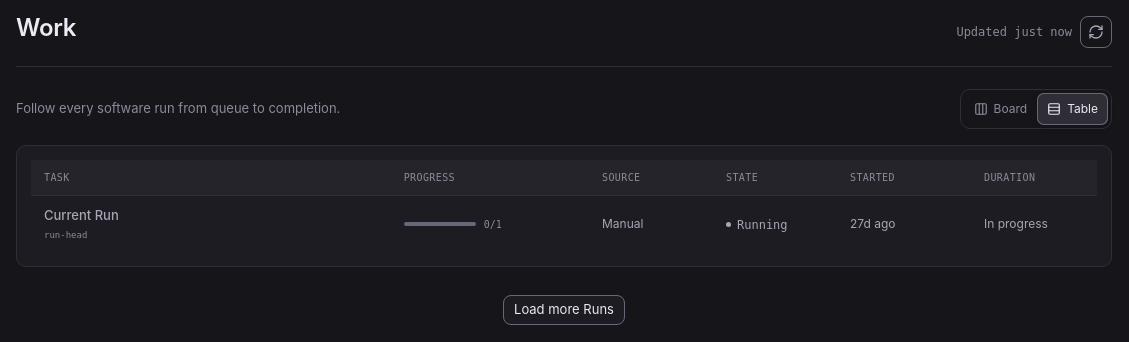
Test: Runs › loads Run history one cursor-bounded page at a time
This screenshot has width=1129, height=342.
Expected: the text "Current Run" is shown, [44,207,119,223]
Expected: the text "Older Run" is not shown
Click the button "Load more Runs": (564, 310) [503,295,625,325]
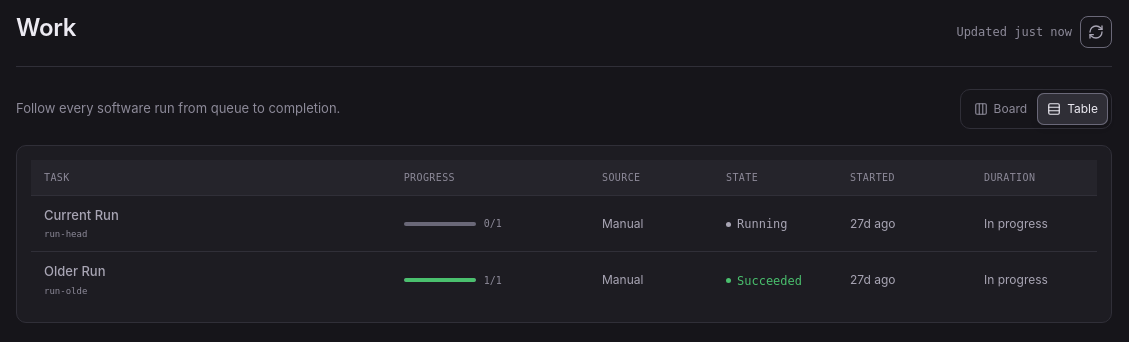
Result: the text "Older Run" is shown at [44,263,106,279]
Result: the button "Load more Runs" is gone
